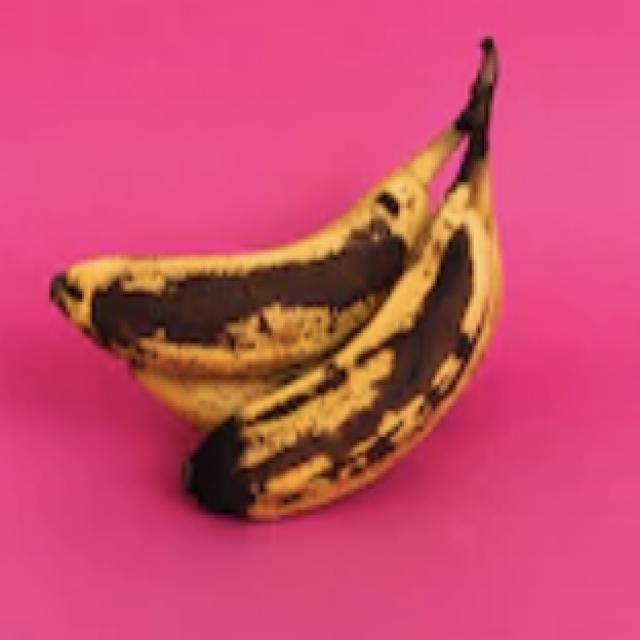rotten-banana: (188, 211, 534, 528), (65, 131, 442, 389)
